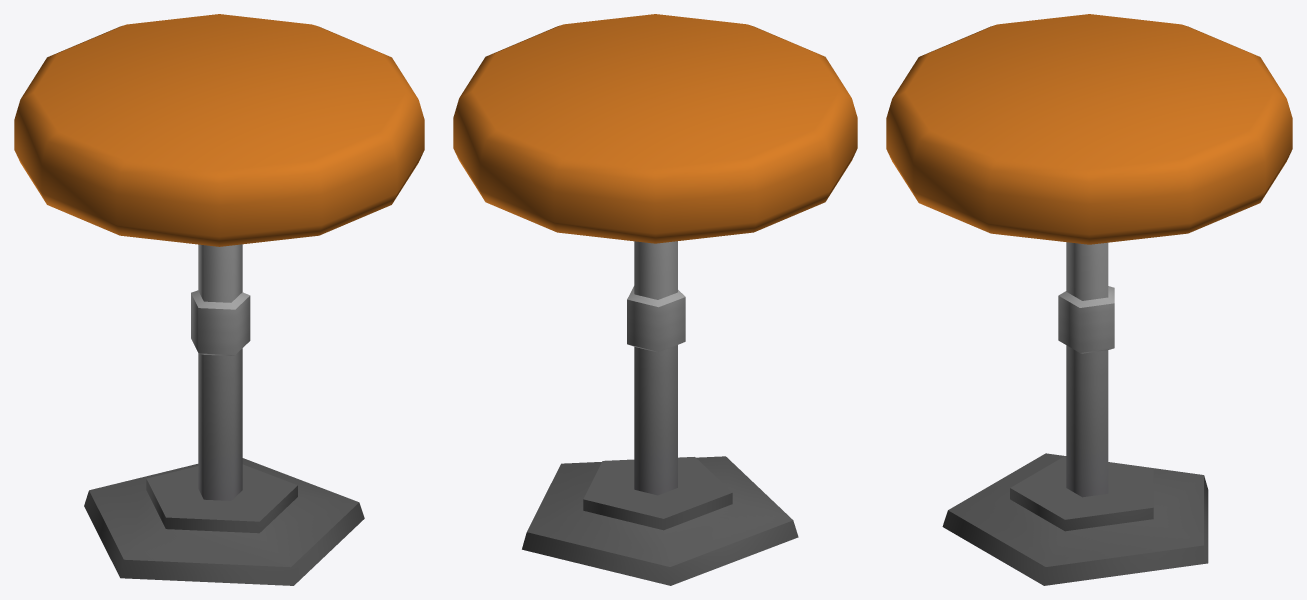
File: Chair_3_D.fbx
3 renders of one model, left to right at view 1: azimuth 30°, elevation 25°; view 2: azimuth 150°, elevation 25°; view 3: azimuth 270°, elevation 25°, orthographic.
Visible parts, largest first — view 1: Chair_3_D; view 2: Chair_3_D; view 3: Chair_3_D.
Boxes of the visible parts, bbox=[...] form: Chair_3_D: bbox=[14, 14, 424, 585]; Chair_3_D: bbox=[453, 14, 857, 585]; Chair_3_D: bbox=[886, 14, 1292, 585].
Size of the model in its own units: 50.02 by 59.1 by 50.04.
